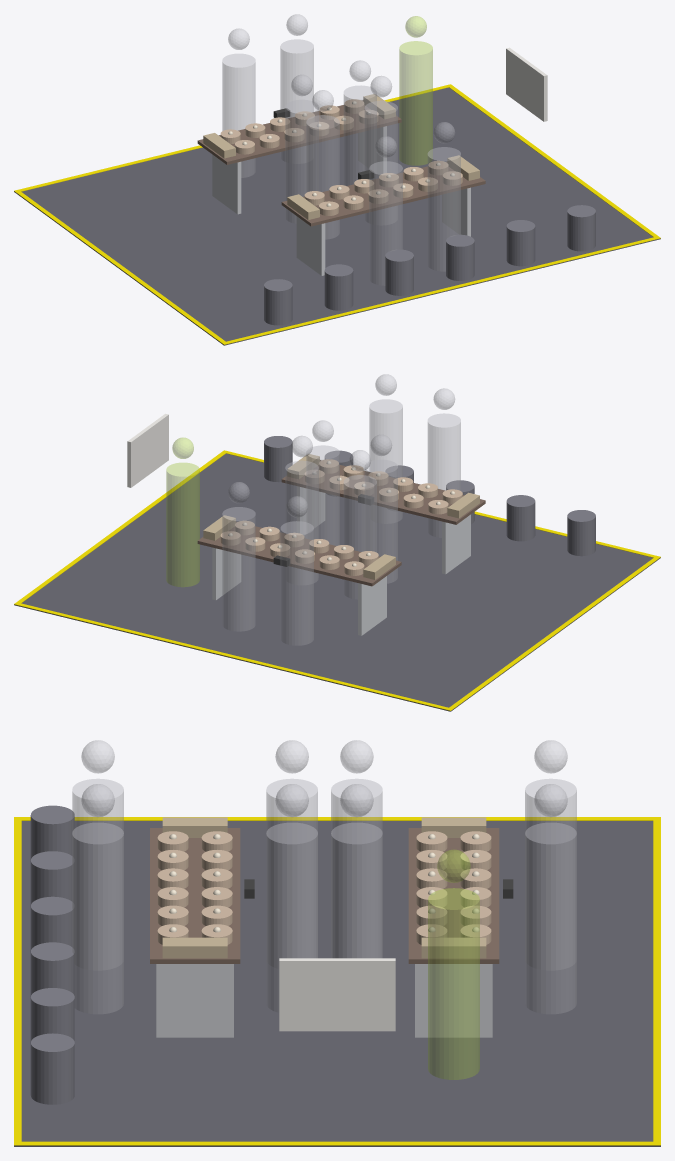
The model's file is G09_HARVEST.glb.
3 renders of one model, top to bottom at view 1: azimuth 30°, elevation 25°; view 2: azimuth 150°, elevation 25°; view 3: azimuth 270°, elevation 25°, orthographic. The views are drawn at different scales.
Parts seen in each view (by area): view 1: floor_area, operator_body, player_1_-1_0.4_body, player_1_-1_-0.4_body, player_0_-1_-0.4_body, player_0_-1_0.4_body, player_1_1_0.4_body, player_0_1_0.4_body, player_0_1_-0.4_body, player_1_1_-0.4_body, board_1, board_0 (+19 smaller); view 2: floor_area, player_0_1_-0.4_body, player_0_1_0.4_body, operator_body, player_1_1_-0.4_body, player_1_1_0.4_body, player_0_-1_0.4_body, player_1_-1_0.4_body, player_1_-1_-0.4_body, player_0_-1_-0.4_body, board_0, board_1 (+15 smaller); view 3: floor_area, player_0_1_0.4_body, operator_body, player_0_1_-0.4_body, player_1_-1_0.4_body, player_1_-1_-0.4_body, player_1_1_-0.4_body, player_0_-1_-0.4_body, bracket_board, player_1_1_0.4_body, player_0_-1_0.4_body, trestle_0_1.0 (+26 smaller).
Part boxes in pixels (x1,y1,x2,y2): floor_area: [14, 87, 660, 345]; operator_body: [399, 41, 432, 165]; player_1_-1_0.4_body: [427, 147, 460, 271]; player_1_-1_-0.4_body: [369, 161, 402, 285]; player_0_-1_-0.4_body: [285, 99, 318, 223]; player_0_-1_0.4_body: [343, 85, 376, 185]; player_1_1_0.4_body: [364, 101, 397, 225]; player_0_1_0.4_body: [280, 39, 313, 163]; player_0_1_-0.4_body: [222, 53, 255, 177]; player_1_1_-0.4_body: [306, 115, 339, 239]; board_1: [281, 162, 485, 226]; board_0: [197, 100, 401, 164]; floor_area: [14, 453, 660, 711]; player_0_1_-0.4_body: [280, 521, 313, 645]; player_0_1_0.4_body: [222, 507, 255, 631]; operator_body: [166, 462, 199, 587]; player_1_1_-0.4_body: [364, 459, 397, 583]; player_1_1_0.4_body: [306, 445, 339, 545]; player_0_-1_0.4_body: [285, 460, 318, 584]; player_1_-1_0.4_body: [369, 399, 402, 523]; player_1_-1_-0.4_body: [427, 413, 460, 537]; player_0_-1_-0.4_body: [343, 475, 376, 599]; board_0: [197, 521, 401, 586]; board_1: [281, 460, 485, 524]; floor_area: [14, 821, 660, 1146]; player_0_1_0.4_body: [525, 822, 576, 1014]; operator_body: [428, 888, 479, 1079]; player_0_1_-0.4_body: [525, 778, 576, 970]; player_1_-1_0.4_body: [72, 822, 123, 1014]; player_1_-1_-0.4_body: [72, 778, 123, 970]; player_1_1_-0.4_body: [266, 778, 317, 968]; player_0_-1_-0.4_body: [331, 778, 382, 957]; bracket_board: [279, 958, 395, 1031]; player_1_1_0.4_body: [266, 822, 317, 1012]; player_0_-1_0.4_body: [331, 822, 382, 958]; trestle_0_1.0: [415, 964, 492, 1037].
Size of the model in its own units: 6 by 1.87 by 5.
